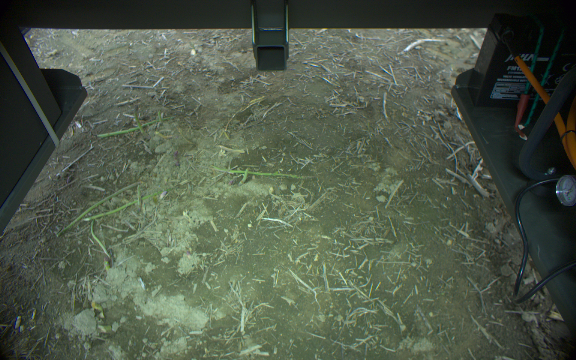aspa: (53, 180, 144, 233), (83, 185, 182, 221), (206, 163, 328, 182), (94, 116, 197, 137), (130, 105, 145, 135), (238, 164, 253, 190), (134, 182, 144, 211), (157, 107, 163, 128)
